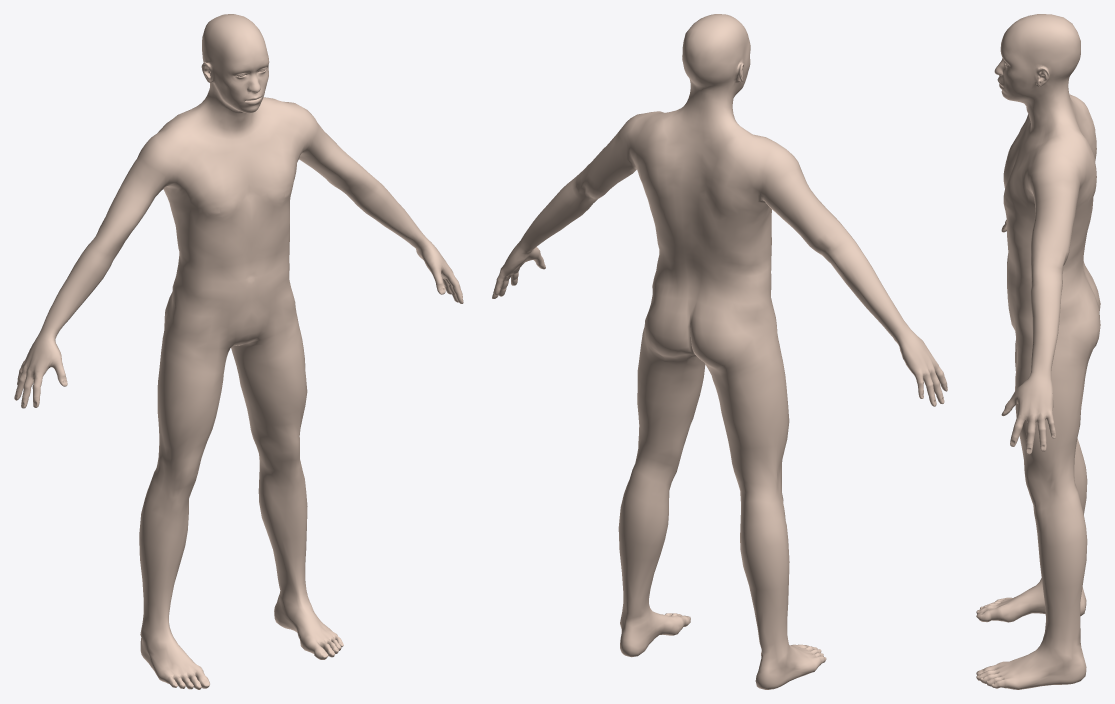
File: male.glb
The picture shows the model from 3 angles, left to right: view 1: azimuth 30°, elevation 25°; view 2: azimuth 150°, elevation 25°; view 3: azimuth 270°, elevation 25°; orthographic projection.
Parts seen in each view (by area): view 1: body; view 2: body; view 3: body.
Boxes of the visible parts, x1,y1,x2,y2 form: body: (14,14,463,689); body: (492,14,947,689); body: (976,14,1100,689).
Size of the model in its own units: 1.38 by 1.9 by 0.3388.
